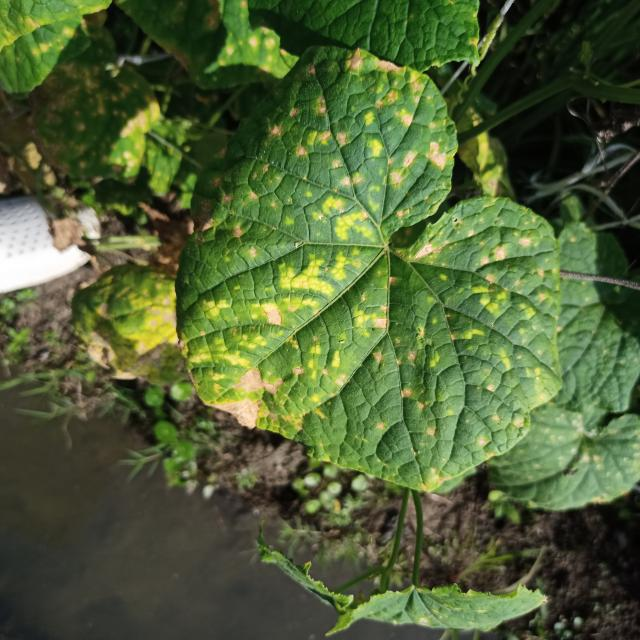disease_cucumber: (183, 51, 548, 465)
